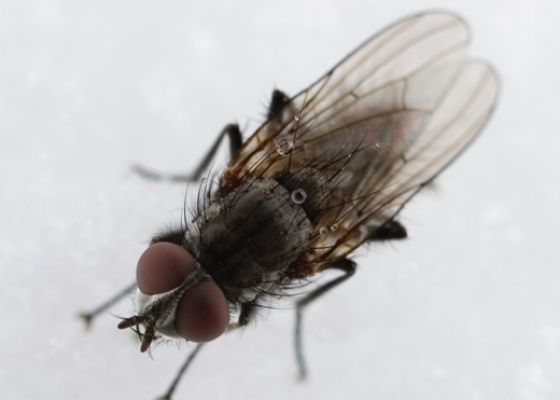fly: (72, 8, 510, 400)
